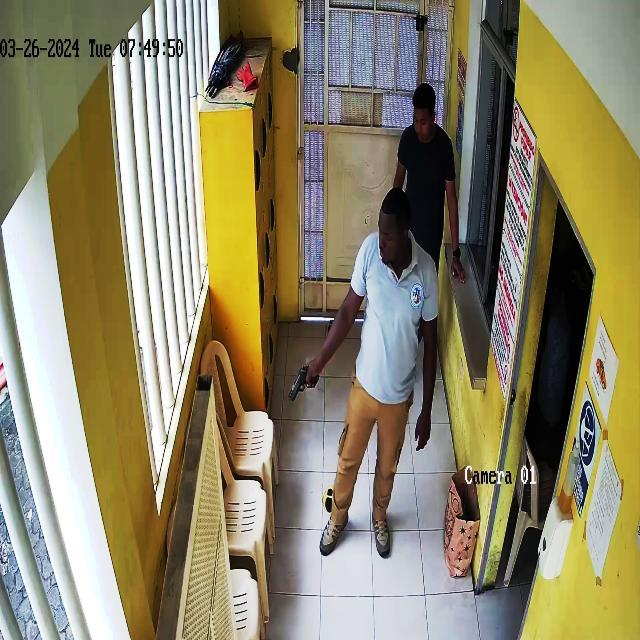Gun: (289, 358, 327, 408)
